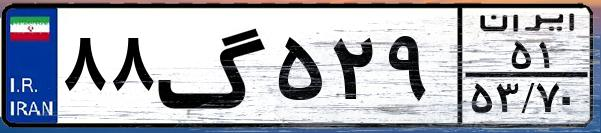0: (560, 70, 590, 125)
1: (537, 27, 568, 80)
2: (330, 28, 385, 110)
3: (495, 70, 520, 125)
5: (270, 28, 330, 110), (508, 27, 537, 80), (470, 70, 495, 125)
7: (535, 70, 560, 125)
8: (57, 26, 110, 100), (110, 28, 156, 98)
9: (385, 28, 445, 110)
گ: (156, 12, 270, 120)
